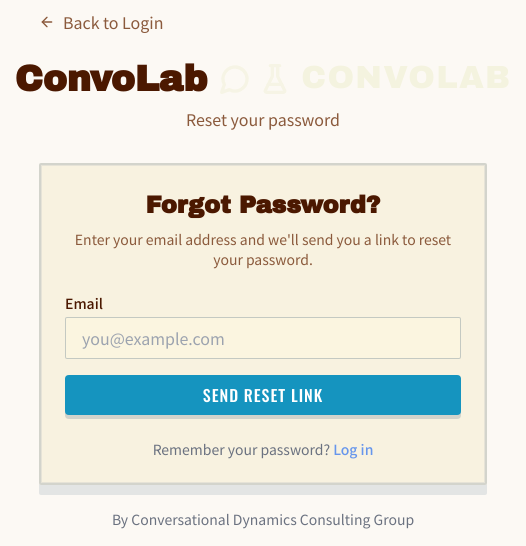
Test: ForgotPasswordPage › Form Submission › should show loading state during submission
Type "test@example.com" into the field labelled "Email".
click(263, 338); type("test@example.com")  # box [65,316,461,358]
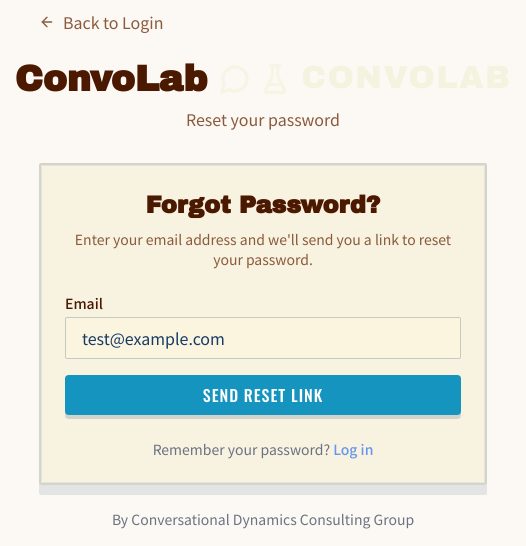
Click the button "Send Reset Link".
click(263, 394)  # box [65,374,461,414]
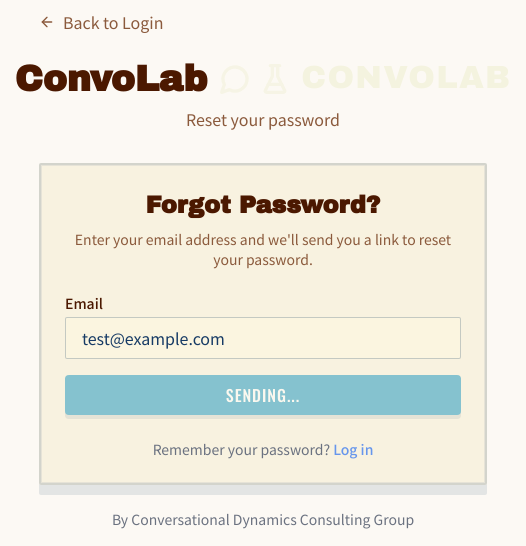
expect the button "Sending..." is disabled: met, box [65,374,461,414]
